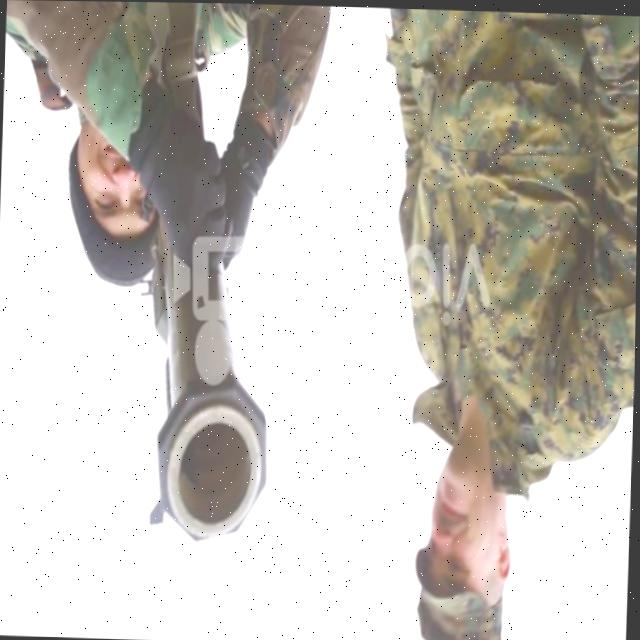rocket: (141, 212, 285, 543)
